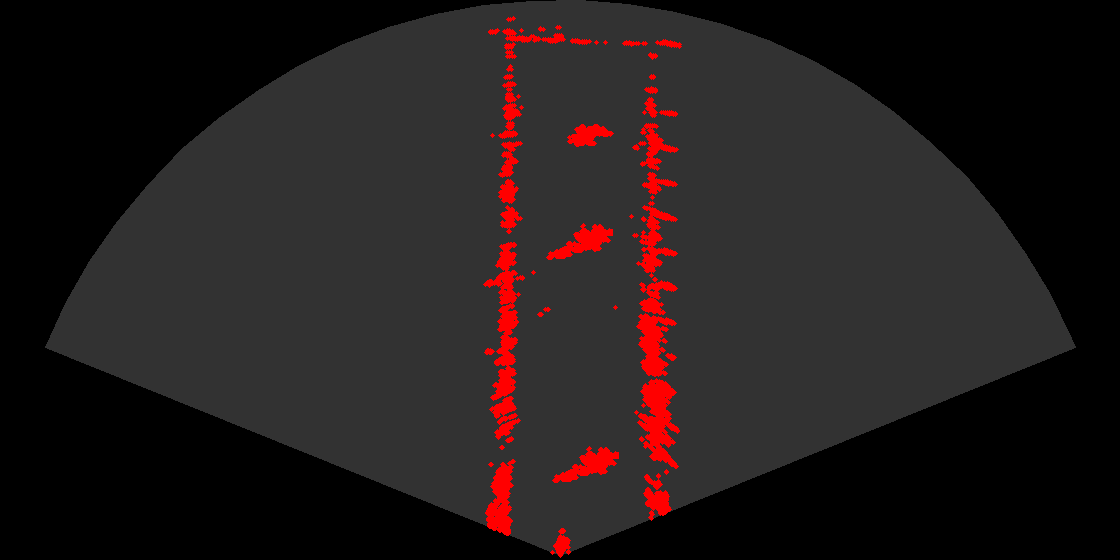AUV: (561, 122, 617, 154)
frogman: (545, 217, 613, 264), (551, 440, 619, 487)
